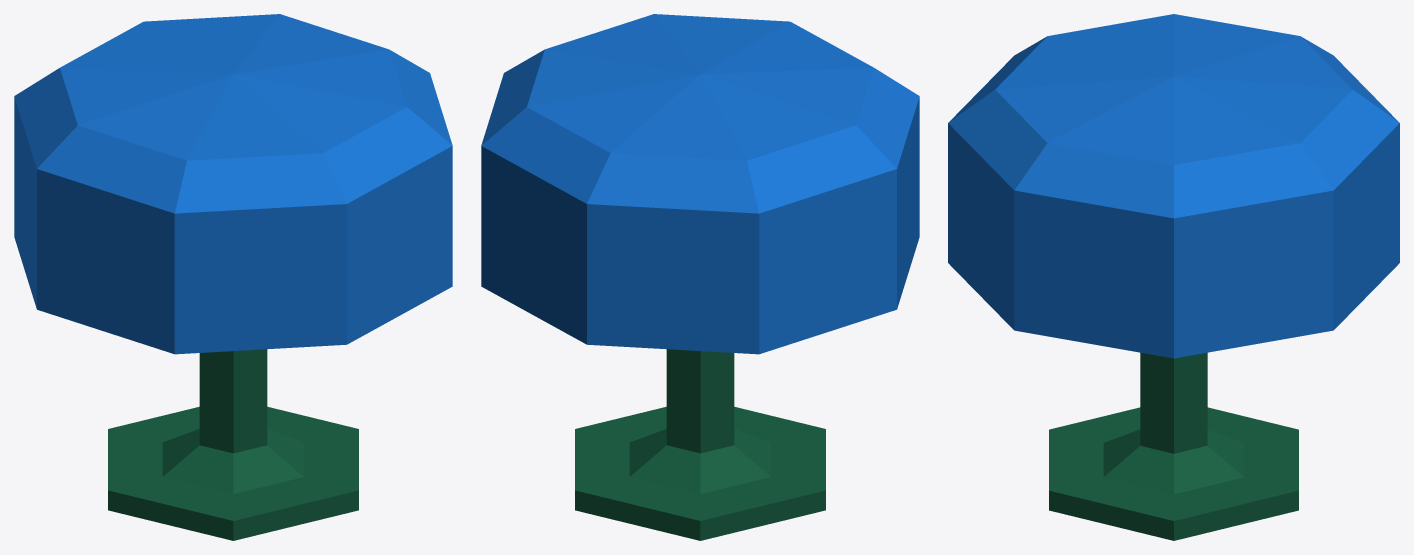
File: T_chair3.fbx
3 views of the same model, side by side, from view 1: azimuth 30°, elevation 25°; view 2: azimuth 150°, elevation 25°; view 3: azimuth 270°, elevation 25° (orthographic).
Parts seen in each view (by area): view 1: chair3; view 2: chair3; view 3: chair3.
Part boxes in pixels (<box>): chair3: <box>14,14,452,540</box>; chair3: <box>481,14,919,540</box>; chair3: <box>948,14,1399,540</box>.
Size of the model in its own units: 42.19 by 41.56 by 42.19.
